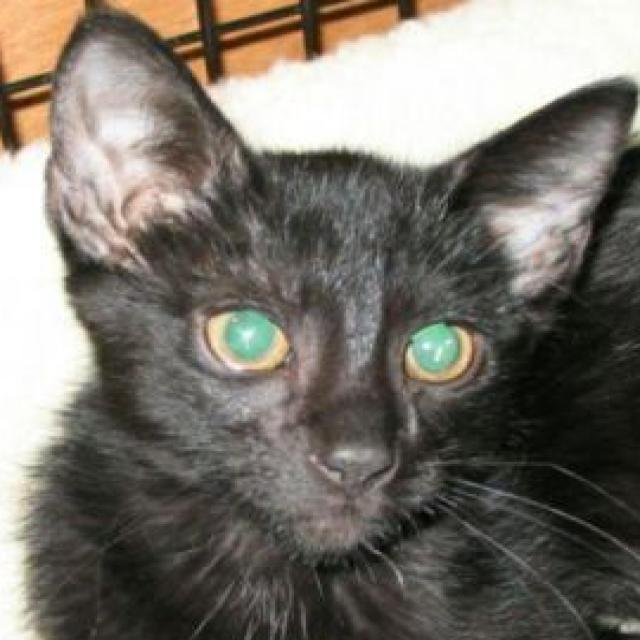Bombay: (23, 4, 640, 639)
